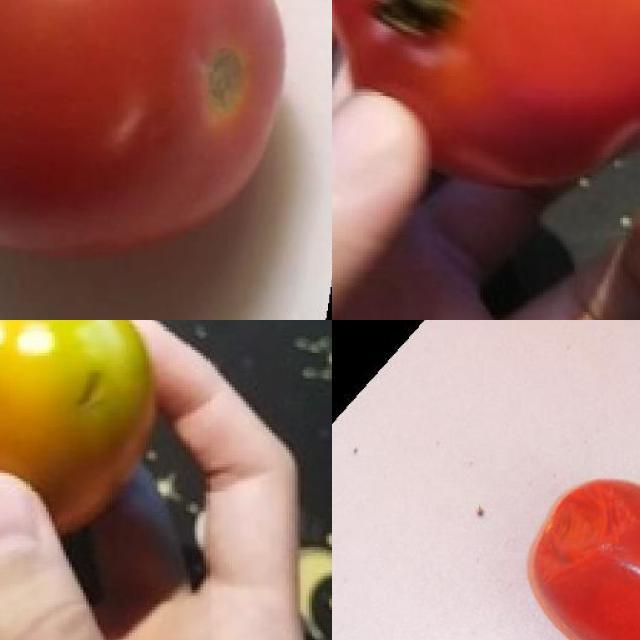Fresh Tomato: (0, 0, 316, 273), (332, 0, 640, 200)
Rotten Tomato: (0, 320, 168, 560), (506, 465, 640, 640)
